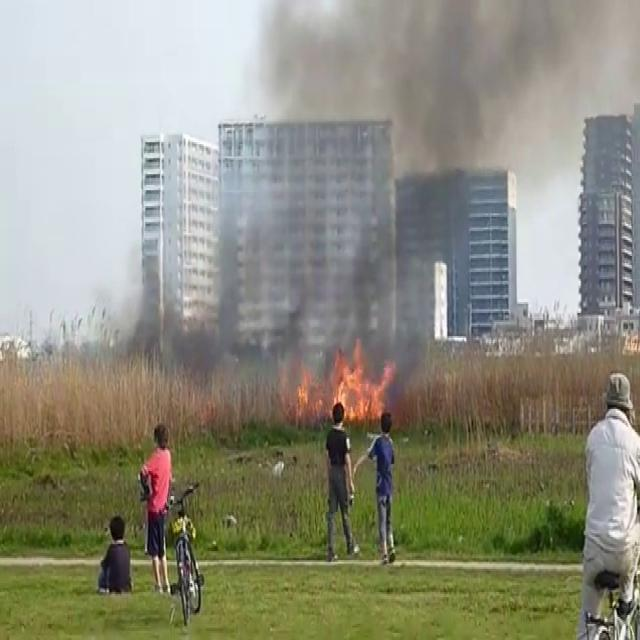Fire: (293, 338, 397, 428)
Smoke: (221, 0, 582, 389)
